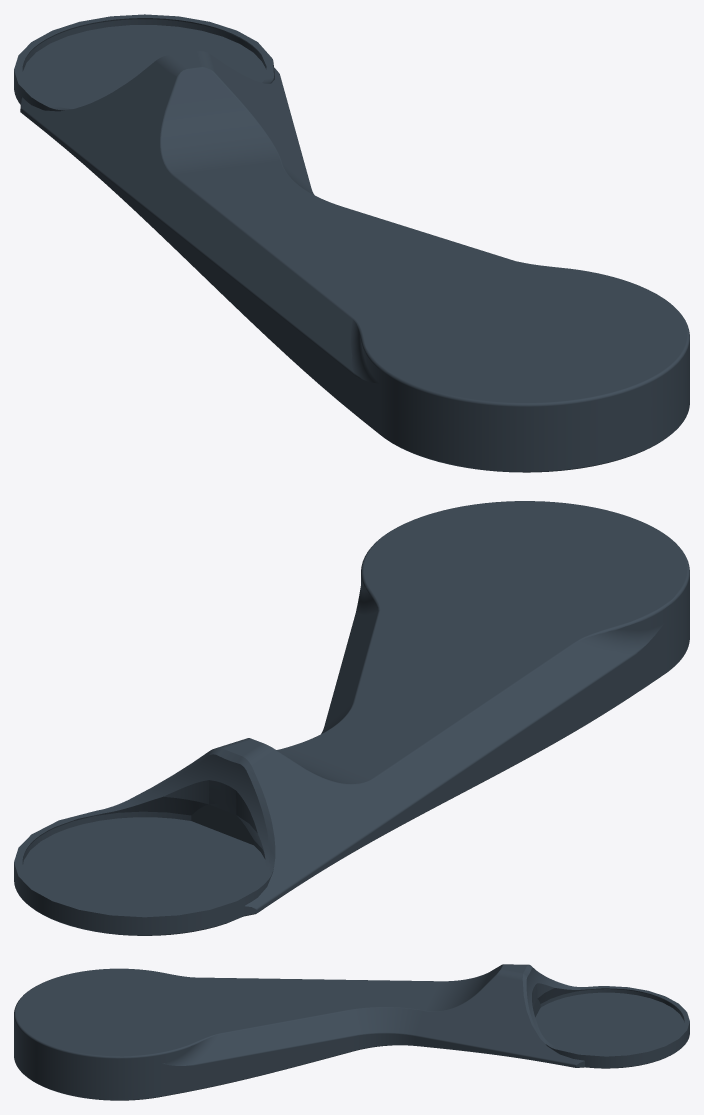
The model's file is hl_knee_3.obj.
3 views of the same model, one above another, from view 1: azimuth 30°, elevation 25°; view 2: azimuth 150°, elevation 25°; view 3: azimuth 270°, elevation 25° (orthographic). The views are drawn at different scales.
Size of the model in its own units: 0.108 by 0.045 by 0.3469.
